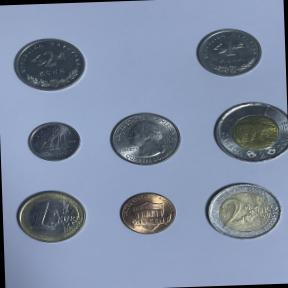coin: (200, 179, 288, 242), (208, 97, 288, 166), (106, 108, 185, 170), (9, 34, 88, 94), (14, 187, 88, 247), (115, 188, 178, 238), (23, 118, 85, 165)
